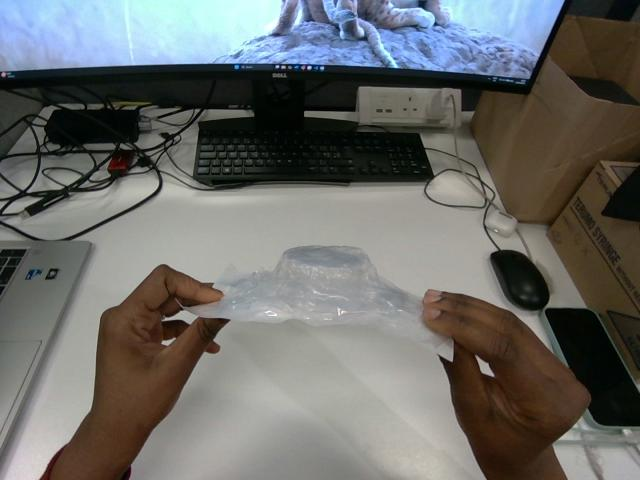gallipot: (185, 246, 452, 359)
